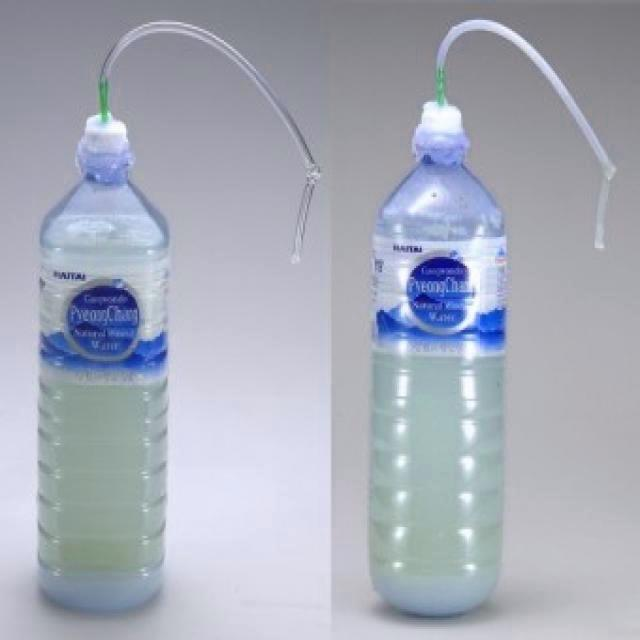bottle: (367, 102, 508, 614), (36, 111, 170, 614)
